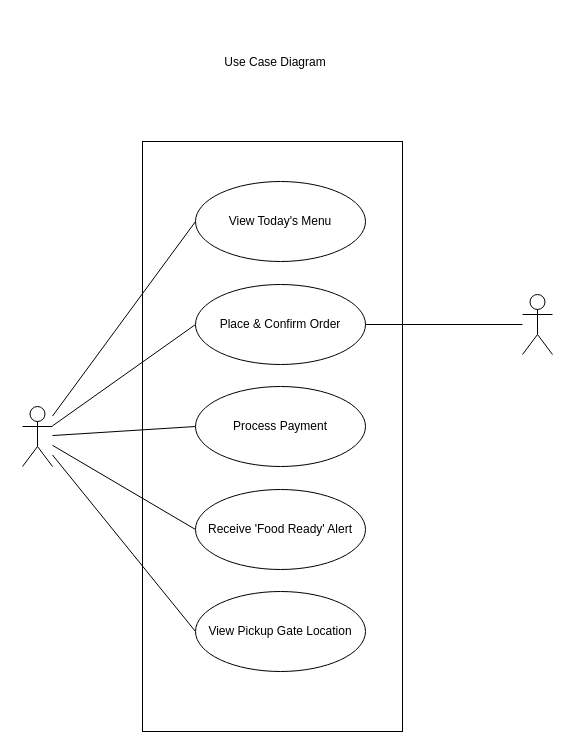
The diagram is 573 pixels wide and 749 high, and some of its shapes have lost their labels. Each missing label, with the centre of its shape:
Staff: the point at 537,324
Student: the point at 37,436
